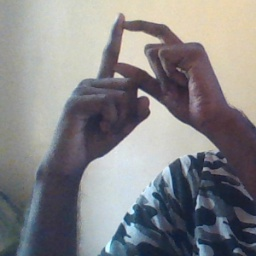D: (78, 6, 201, 119)
